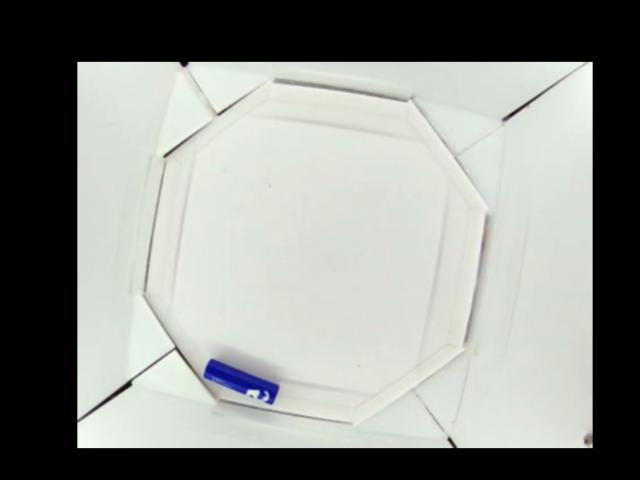Battery: (202, 357, 279, 404)
